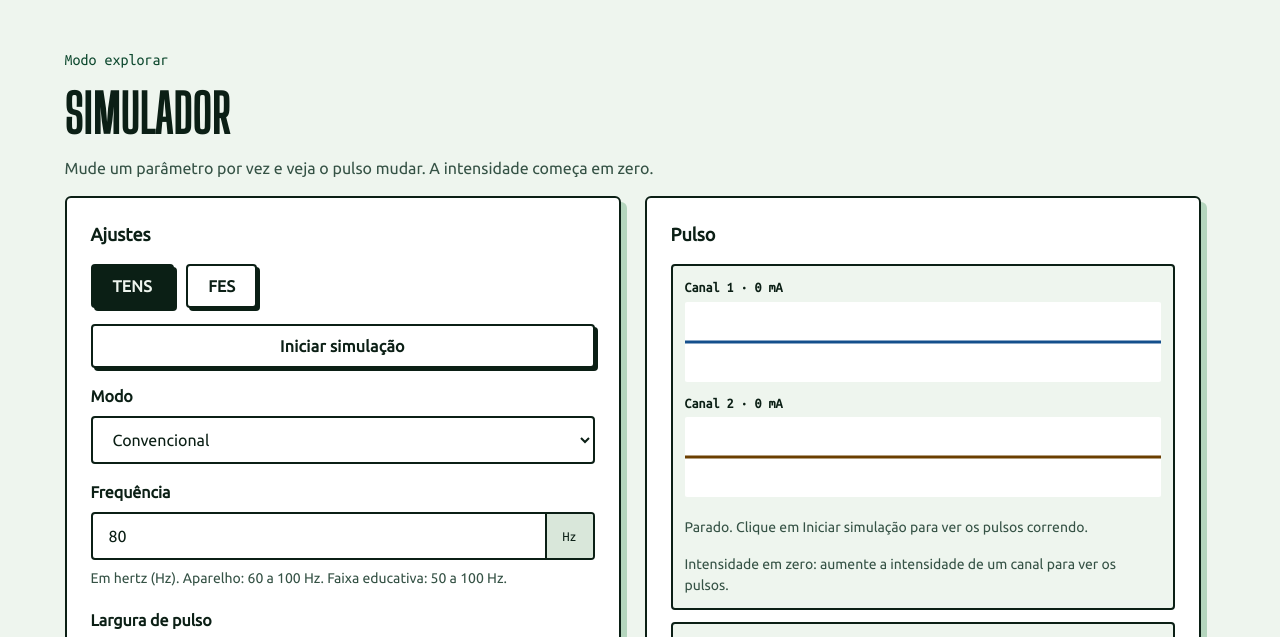
it: osciloscópio ao vivo › deveAvisarACameraLentaAoIniciarUmPulsoRapido
Click the button "Iniciar simulação" at (342, 346), box [90, 324, 594, 368]
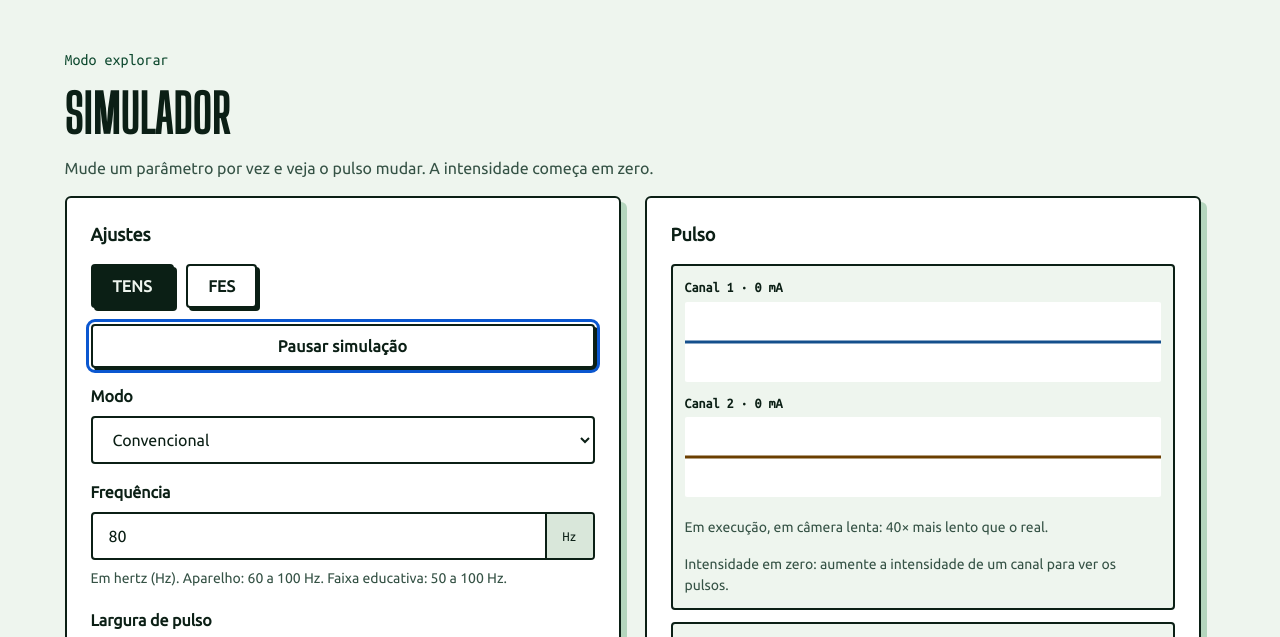
Expected: the text "Em execução, em câmera lenta: 40× mais lento que o real." is shown, [684, 519, 1048, 535]
